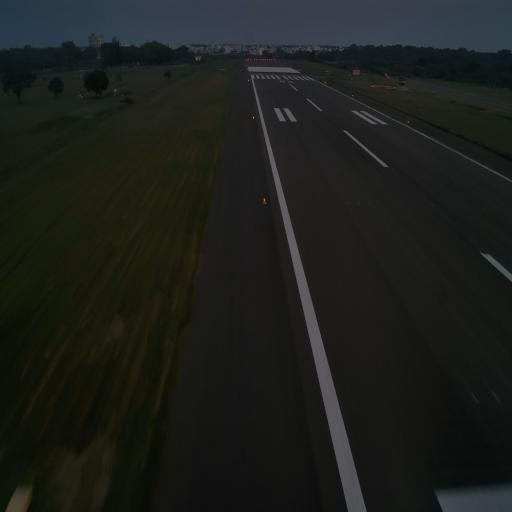off: (469, 386, 481, 406), (490, 388, 502, 405), (346, 199, 351, 207), (357, 198, 362, 206), (367, 198, 372, 206)
on: (260, 195, 268, 208)
